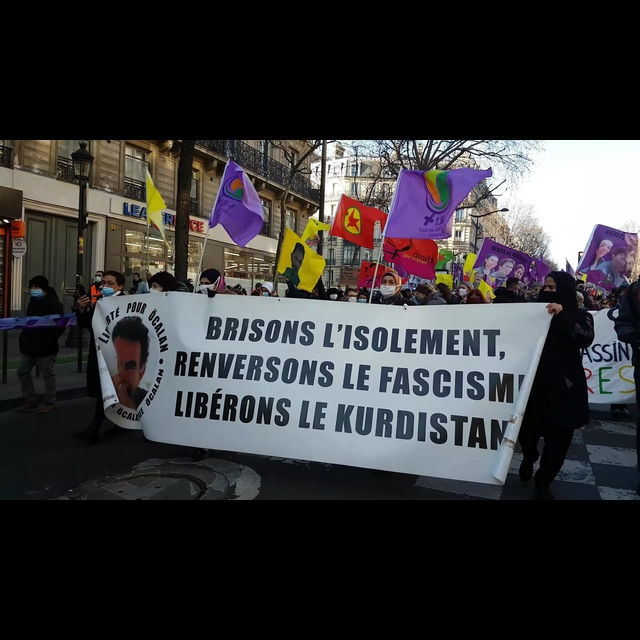PKK: (341, 206, 364, 235)
